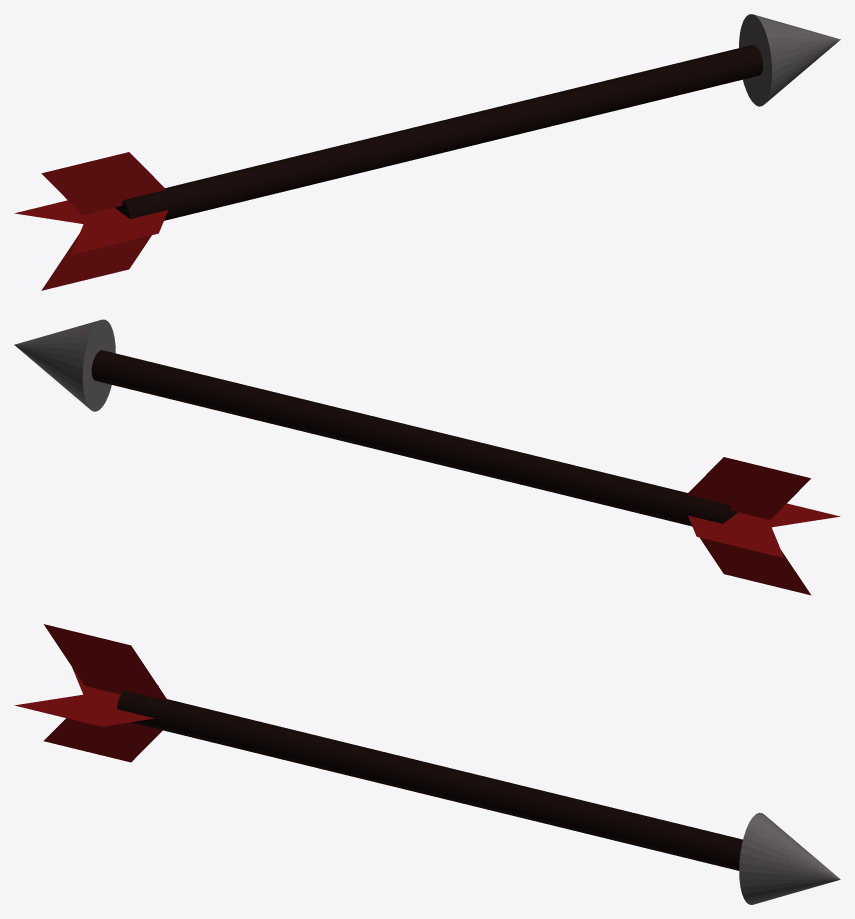
Rendered from arrow.obj.
3 renders of one model, top to bottom at view 1: azimuth 30°, elevation 25°; view 2: azimuth 150°, elevation 25°; view 3: azimuth 330°, elevation 25°, orthographic.
Parts seen in each view (by area): view 1: arrow; view 2: arrow; view 3: arrow.
Part boxes in pixels (x1,y1,x2,y2): arrow: [15, 14, 840, 290]; arrow: [14, 319, 840, 595]; arrow: [14, 624, 840, 904].
Bounding box in the file's own units: 5.45 × 0.7645 × 0.6708.
